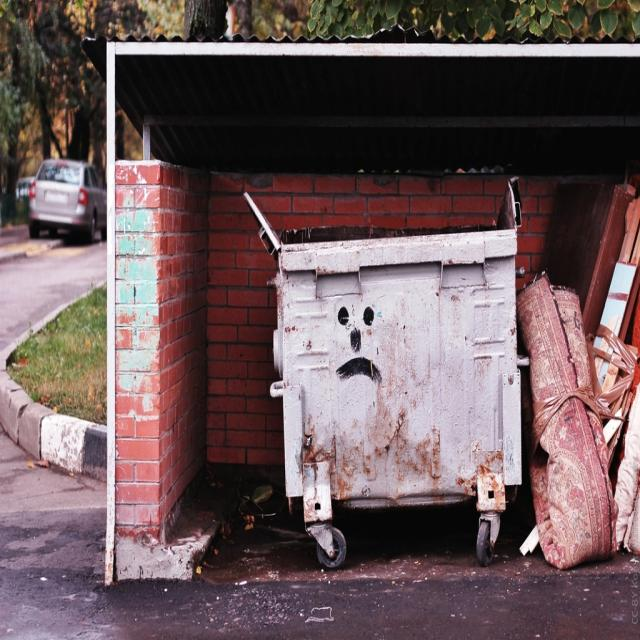car: (18, 149, 93, 233)
